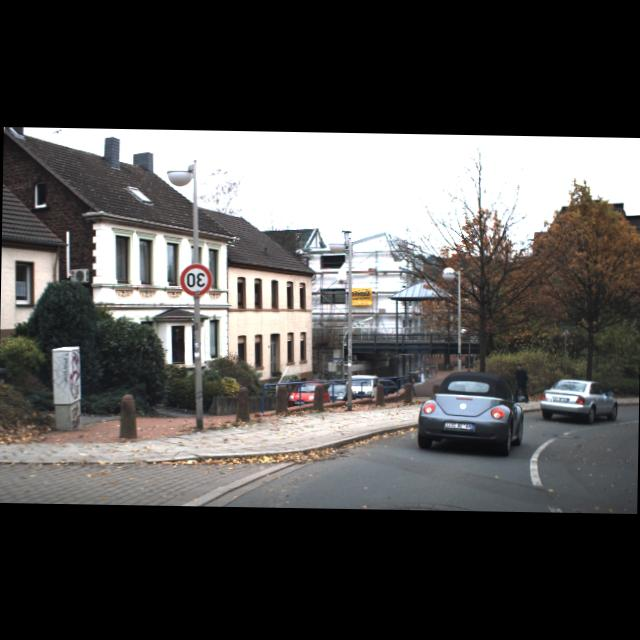prohibitory: (178, 263, 213, 297)
